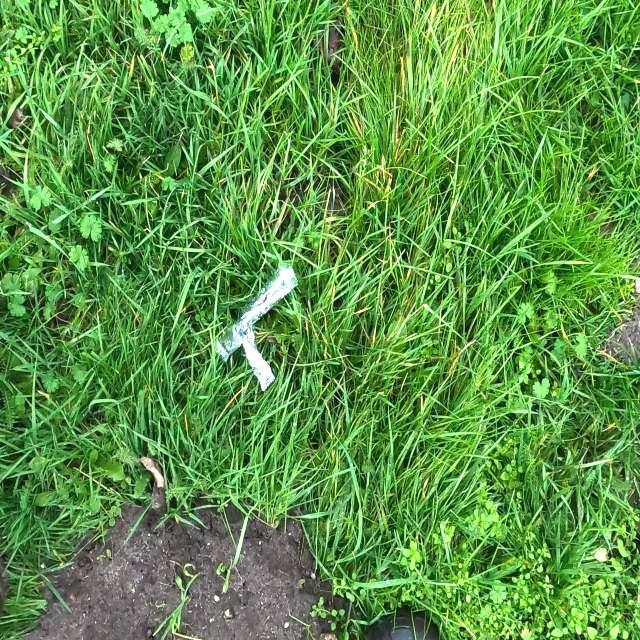Plastic: (214, 260, 300, 392)
